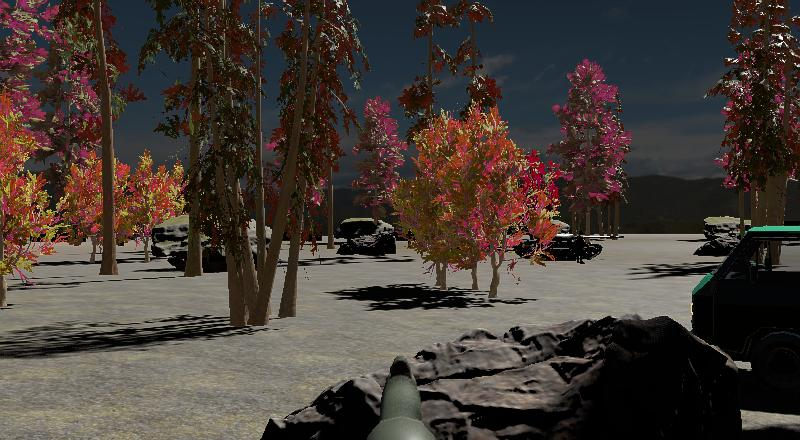Tank: (537, 229, 625, 263)
car: (689, 224, 800, 393)
